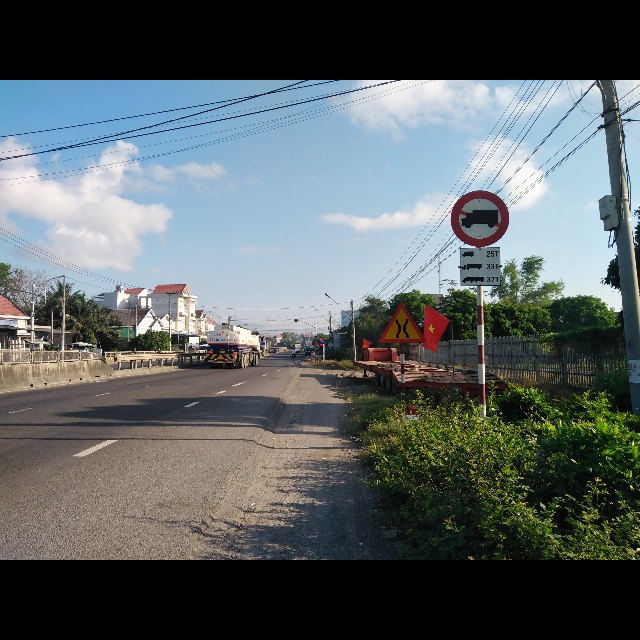Cấm xe tải: (449, 190, 510, 250)
Cầu hẹp: (377, 301, 423, 343)
